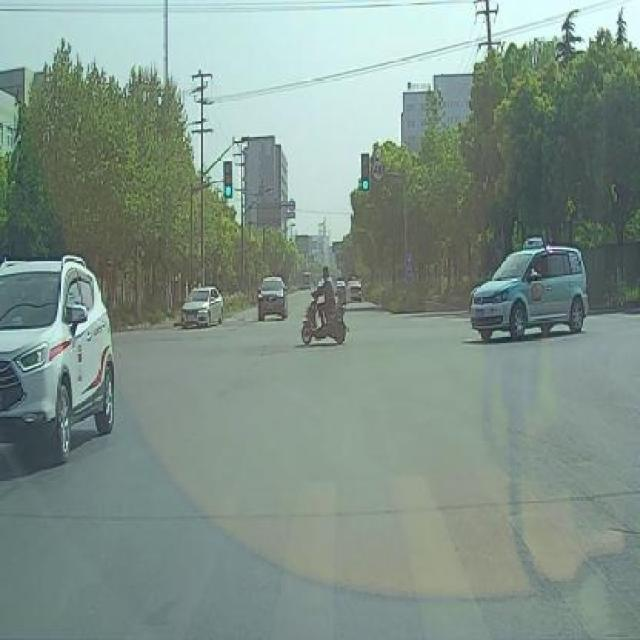forb_speed_over_40: (372, 158, 386, 184)
